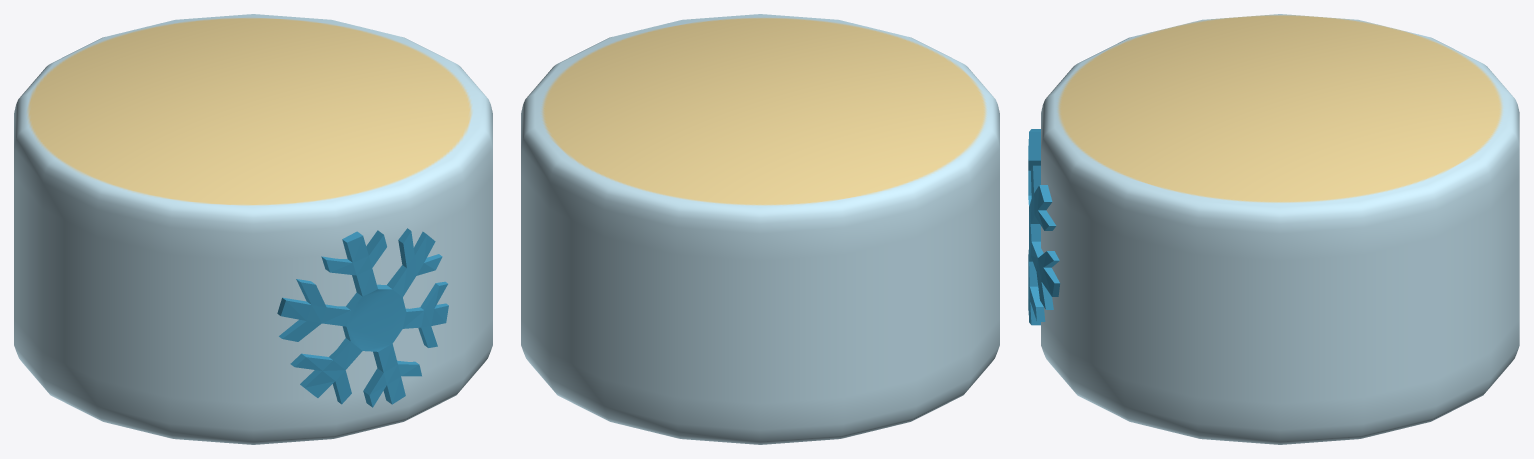
The picture shows the model from 3 angles, left to right: view 1: azimuth 30°, elevation 25°; view 2: azimuth 150°, elevation 25°; view 3: azimuth 270°, elevation 25°; orthographic projection.
Visible parts, largest first — view 1: WoodBlock1; view 2: WoodBlock1; view 3: WoodBlock1.
Boxes of the visible parts, x1=… form: WoodBlock1: x1=14, y1=14, x2=492, y2=444; WoodBlock1: x1=521, y1=14, x2=999, y2=444; WoodBlock1: x1=1028, y1=14, x2=1519, y2=444.
Size of the model in its own units: 809 by 436 by 818.
Materials: 1 (1 with a texture image).
